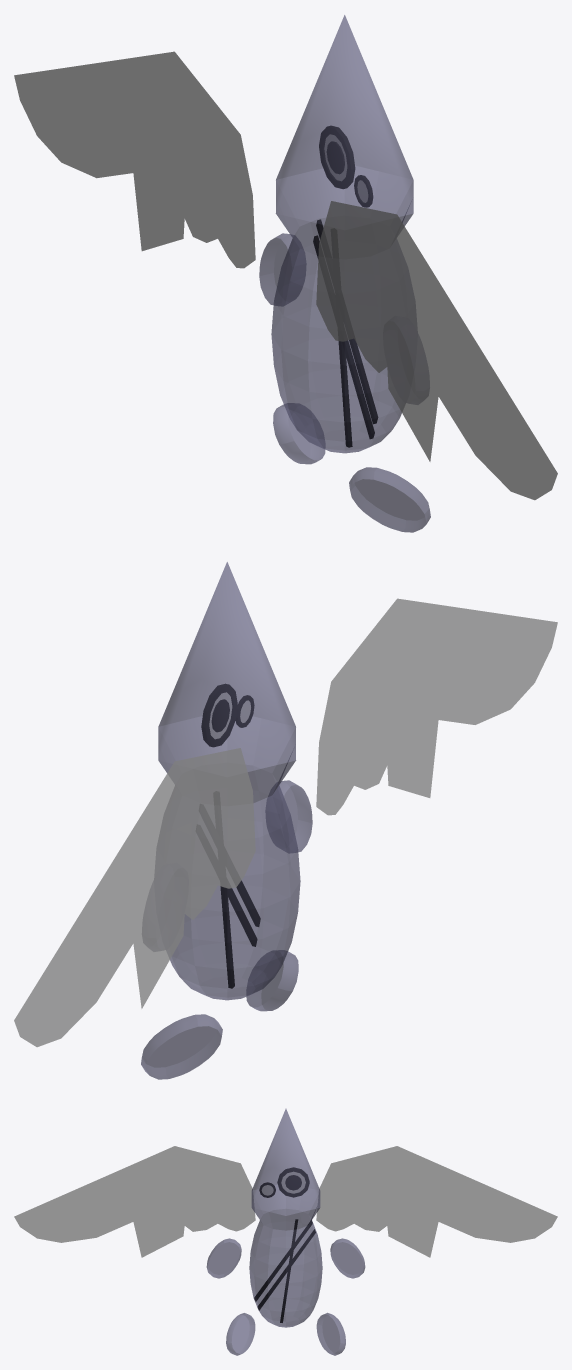
Rendered from NewChar.fbx.
3 renders of one model, top to bottom at view 1: azimuth 30°, elevation 25°; view 2: azimuth 150°, elevation 25°; view 3: azimuth 270°, elevation 25°, orthographic. The views are drawn at different scales.
Visible parts, largest first — view 1: polySurface1, WingR, WingL, pCylinder3, pCube3, pCube2, pCube4; view 2: polySurface1, WingL, WingR, pCylinder3, pCube4; view 3: polySurface1, WingL, WingR, pCylinder3, pCube2, pCube3, pCube4.
Part boxes in pixels (x1,y1,x2,y2): polySurface1: (259, 15, 430, 532); WingR: (316, 201, 557, 500); WingL: (14, 51, 255, 268); pCylinder3: (319, 125, 355, 188); pCube3: (313, 235, 374, 438); pCube2: (316, 219, 378, 423); pCube4: (338, 341, 352, 447); polySurface1: (141, 562, 312, 1079); WingL: (14, 748, 255, 1047); WingR: (316, 598, 557, 815); pCylinder3: (201, 683, 237, 747); pCube4: (220, 886, 234, 988); polySurface1: (206, 1108, 365, 1355); WingL: (316, 1146, 557, 1257); WingR: (14, 1146, 255, 1257); pCylinder3: (277, 1167, 309, 1197); pCube2: (254, 1220, 312, 1301); pCube3: (257, 1229, 315, 1310); pCube4: (280, 1219, 297, 1322).
Size of the model in its own units: 2.77 by 9.31 by 18.92.
